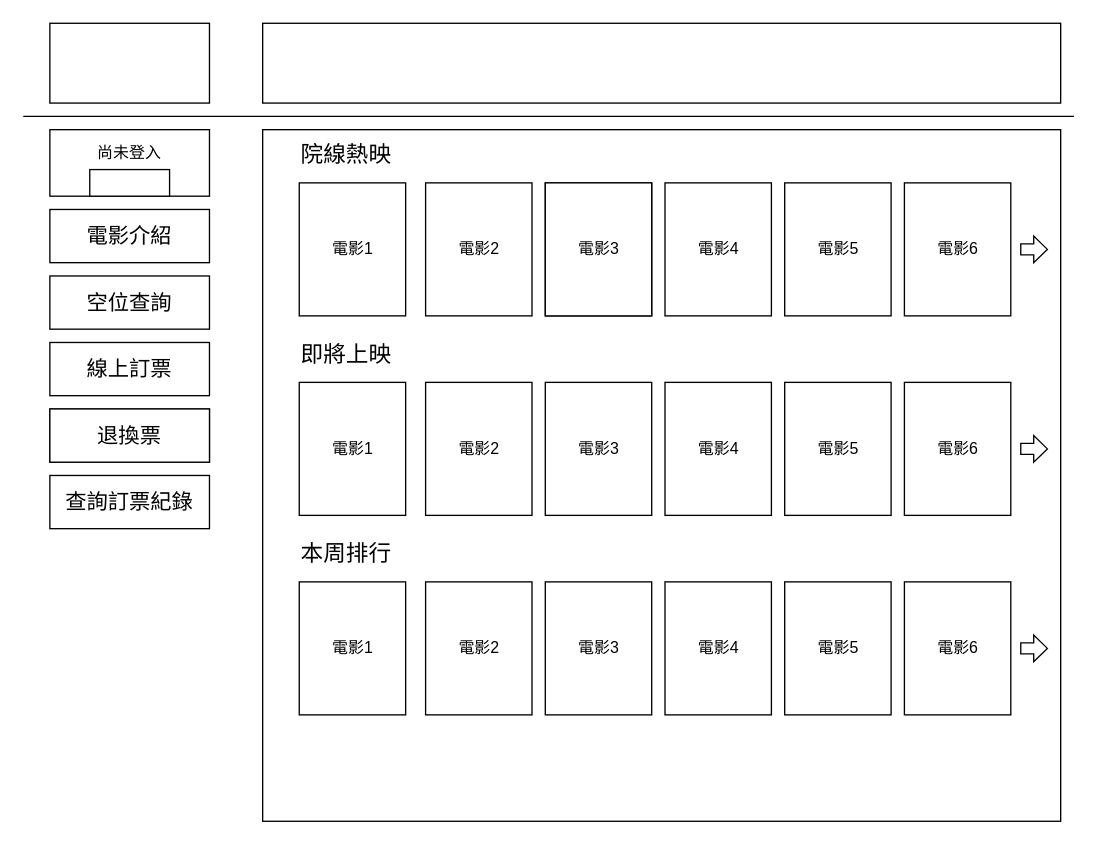
Some shapes in this 1099 by 845 pixel diagram are drawn without their labels. Each missing label, with the centre of its shape:
"影城名稱" goes at point (661, 62).
"登入/註冊" goes at point (129, 182).
"電影院 訂票系統" goes at point (129, 62).
